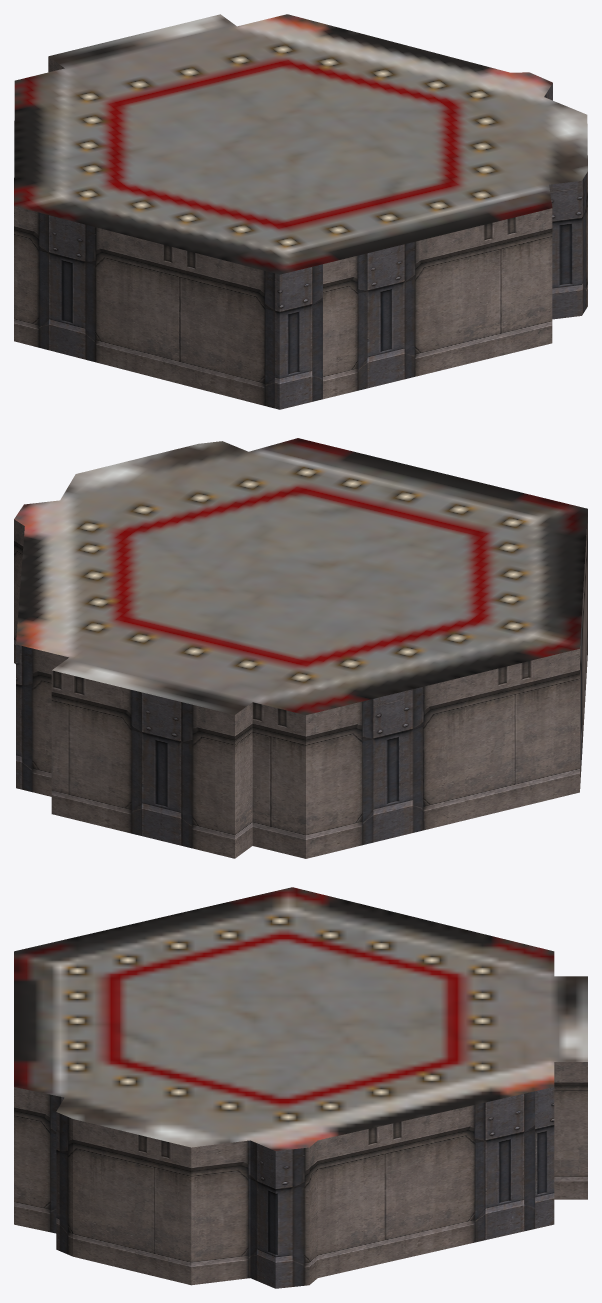
File: bsealed_heavy_05.glb
3 views of the same model, one above another, from view 1: azimuth 30°, elevation 25°; view 2: azimuth 150°, elevation 25°; view 3: azimuth 270°, elevation 25° (orthographic). The views are drawn at different scales.
Parts seen in each view (by area): view 1: buildings/saxarba/bsealed_heavy/bsealed_heavy_05; view 2: buildings/saxarba/bsealed_heavy/bsealed_heavy_05; view 3: buildings/saxarba/bsealed_heavy/bsealed_heavy_05.
Part boxes in pixels (left/top/right/bottom): buildings/saxarba/bsealed_heavy/bsealed_heavy_05: left=14, top=14, right=587, bottom=409; buildings/saxarba/bsealed_heavy/bsealed_heavy_05: left=14, top=438, right=587, bottom=858; buildings/saxarba/bsealed_heavy/bsealed_heavy_05: left=14, top=887, right=587, bottom=1288.
Bounding box in the file's own units: 74 × 18 × 68.
